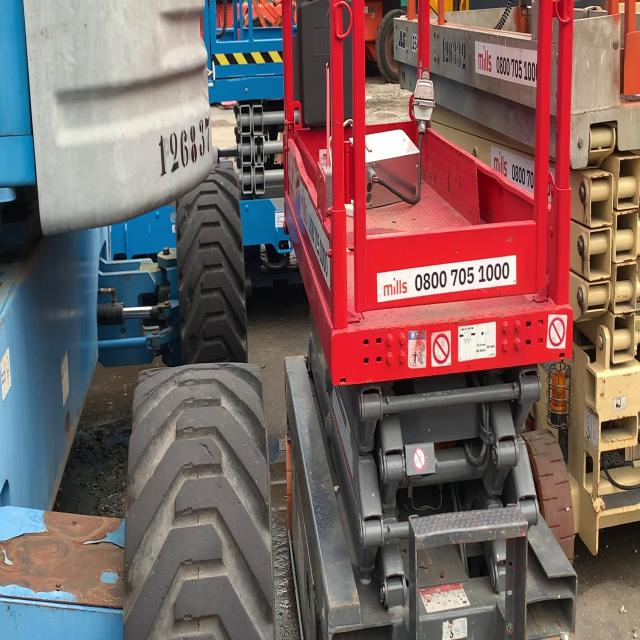Adesivo Longo: (376, 254, 517, 308)
